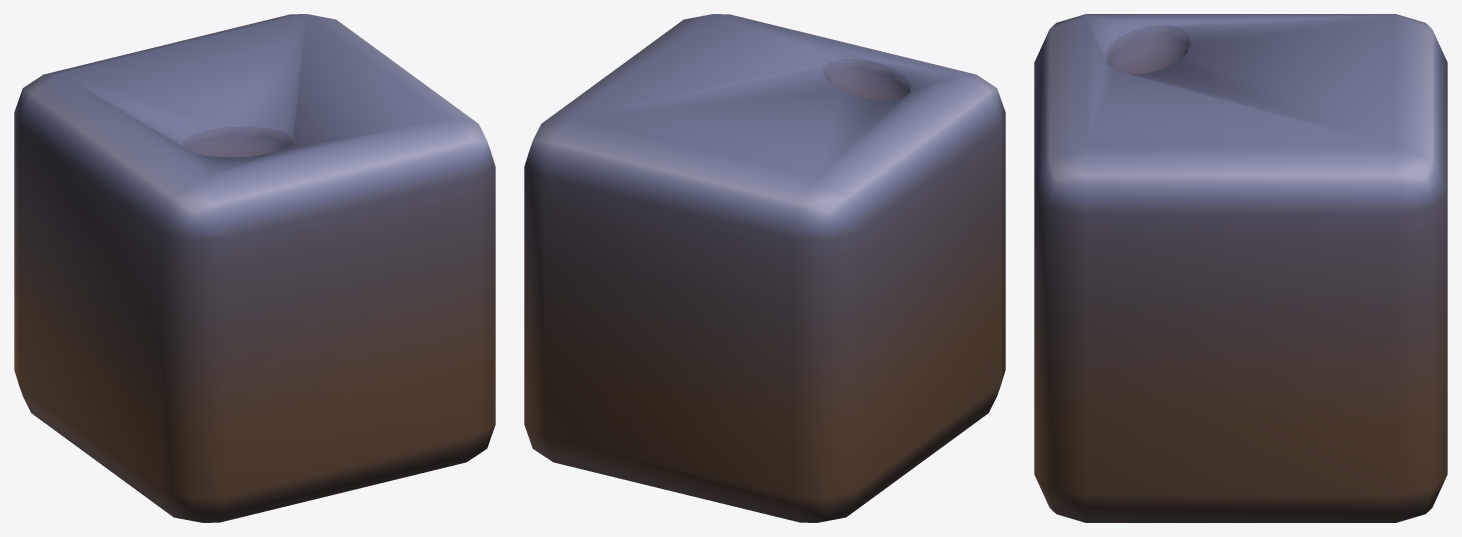
File: block_rock_1_0.fbx
3 renders of one model, left to right at view 1: azimuth 30°, elevation 25°; view 2: azimuth 150°, elevation 25°; view 3: azimuth 270°, elevation 25°, orthographic. The views are drawn at different scales.
Visible parts, largest first — view 1: block_rock_1_0; view 2: block_rock_1_0; view 3: block_rock_1_0.
Part boxes in pixels (left/top/right/bottom): block_rock_1_0: left=14, top=14, right=495, bottom=522; block_rock_1_0: left=524, top=14, right=1005, bottom=522; block_rock_1_0: left=1034, top=14, right=1447, bottom=522.
Bounding box in the file's own units: 200 × 200 × 200.
